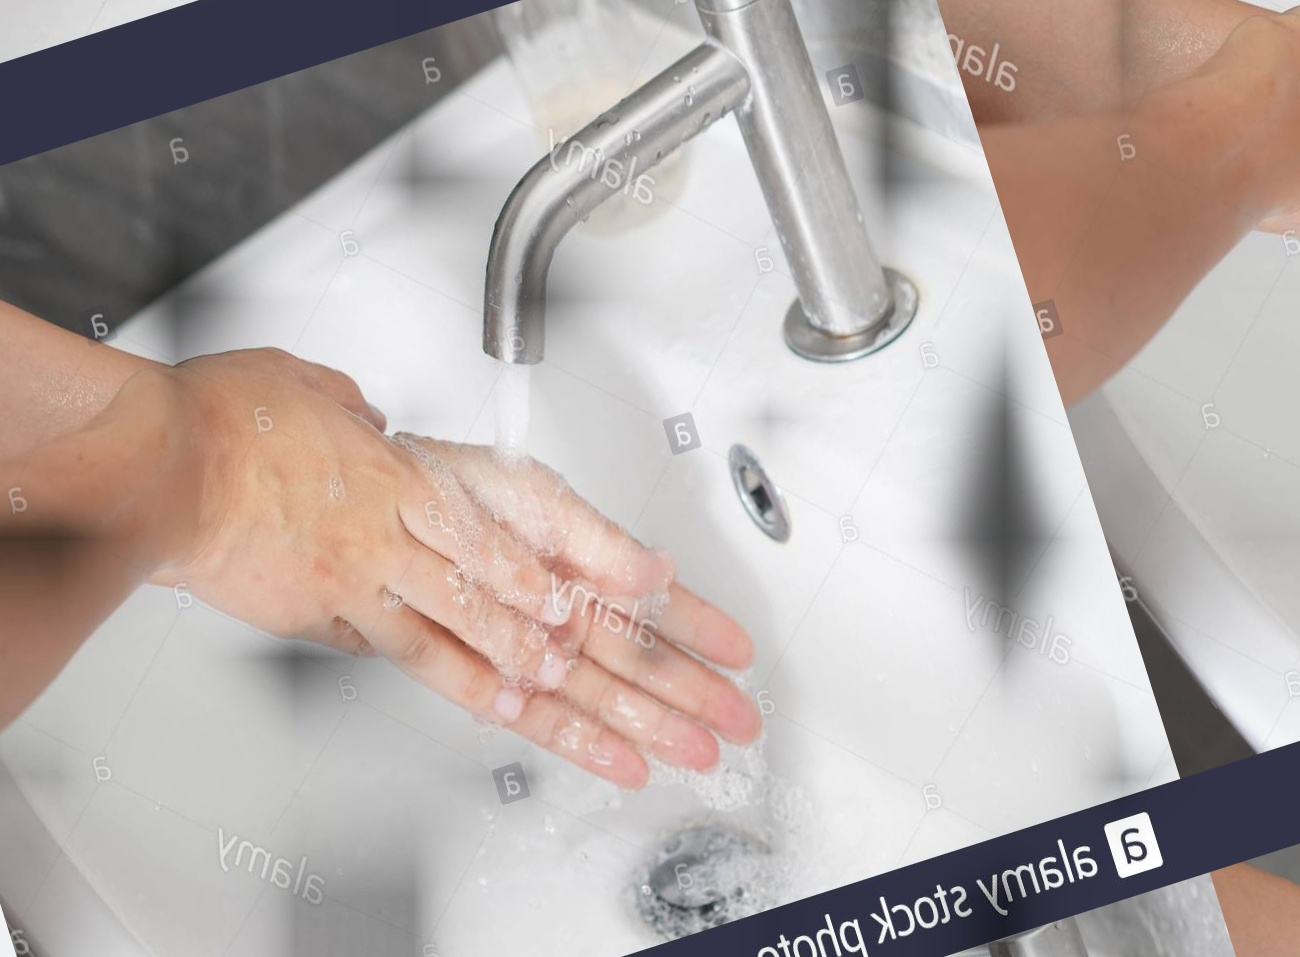washing hand: (145, 0, 1012, 924)
